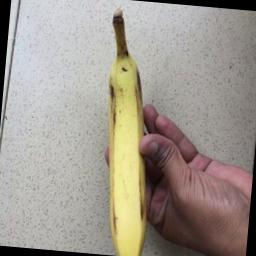Banana Ripe: (75, 0, 172, 256)
